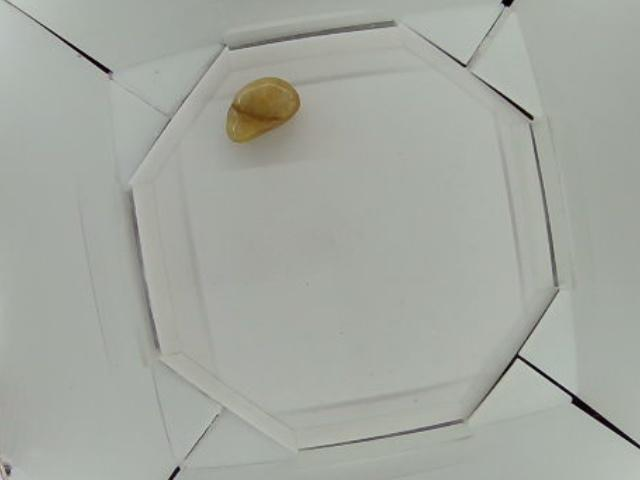Pebble: (218, 76, 304, 143)
